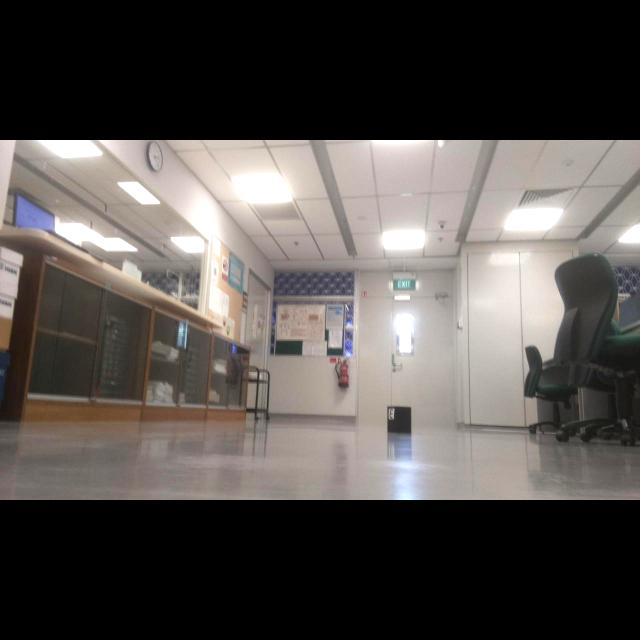E: (390, 410, 393, 419)
